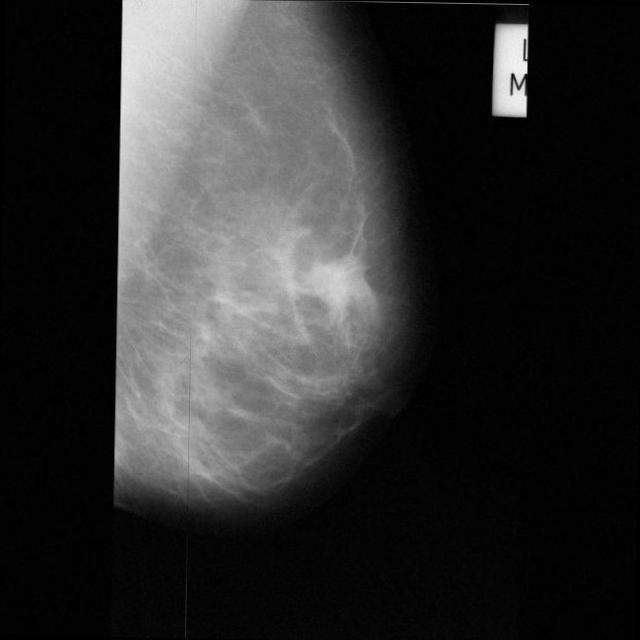ARCH: (286, 228, 394, 334)
